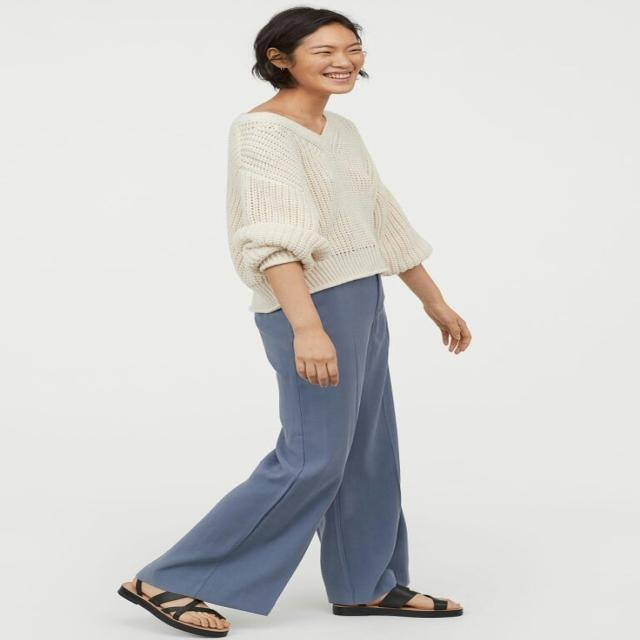person: (117, 5, 472, 638)
